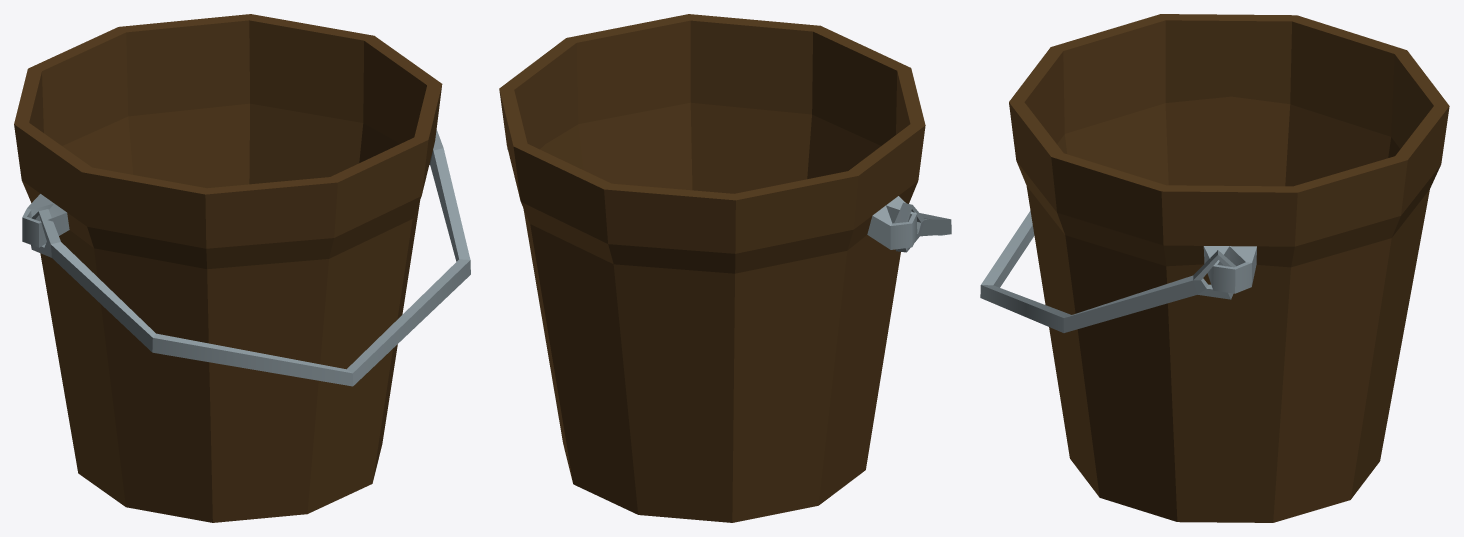
Rendered from bucket.glb.
The picture shows the model from 3 angles, left to right: view 1: azimuth 30°, elevation 25°; view 2: azimuth 150°, elevation 25°; view 3: azimuth 270°, elevation 25°; orthographic projection.
Visible parts, largest first — view 1: bucket.004; view 2: bucket.004; view 3: bucket.004.
Boxes of the visible parts, x1,y1,x2,y2 form: bucket.004: [14, 14, 470, 522]; bucket.004: [499, 14, 951, 522]; bucket.004: [980, 14, 1449, 522].
Size of the model in its own units: 0.487 by 0.4082 by 0.4827.
